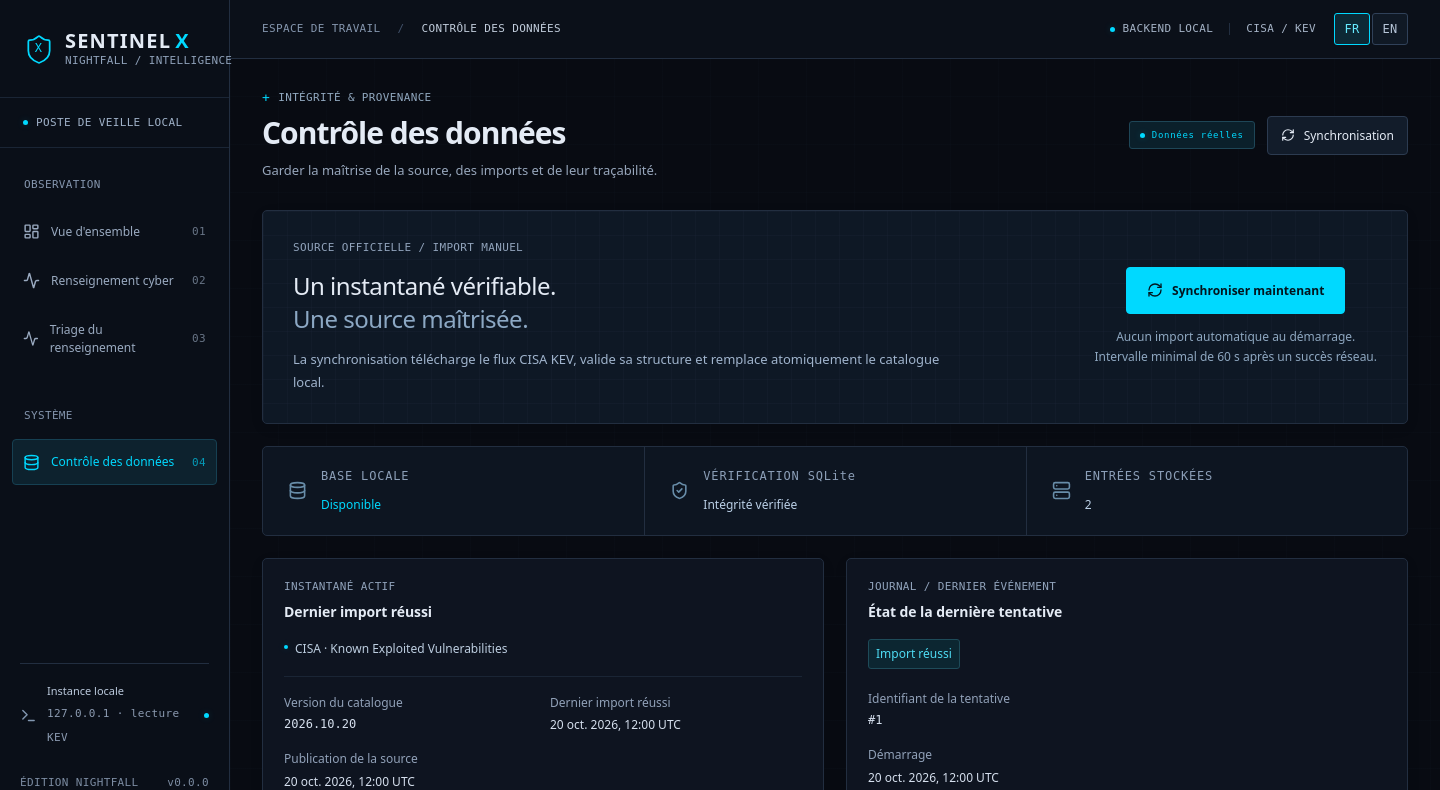
journalise l’échec de synchronisation tout en gardant le dernier succès visible
Click the button "Synchroniser maintenant".
click(1236, 290)  # box x1=1126 y1=267 x2=1345 y2=314
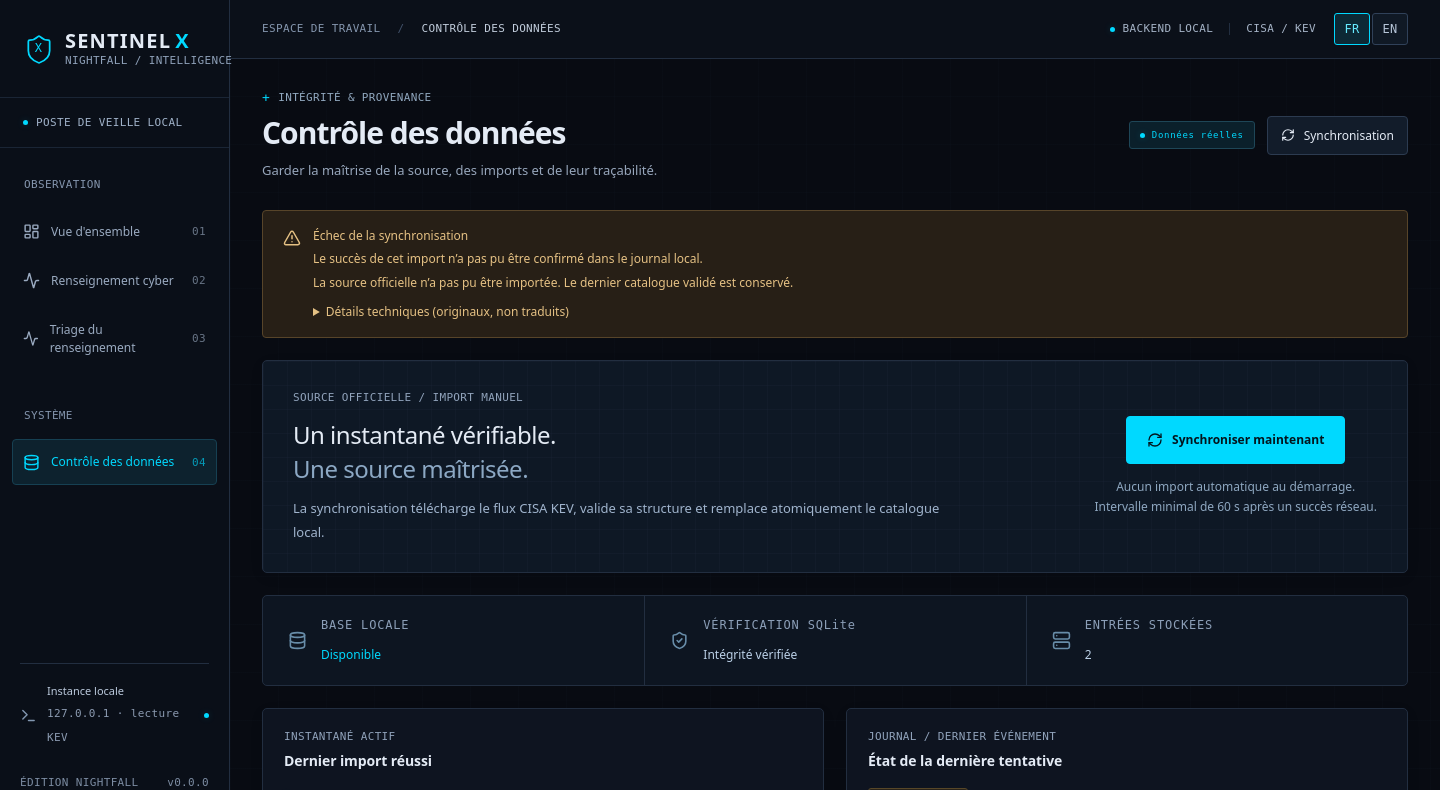
Expected: the button "Synchroniser maintenant" is enabled, x1=1126 y1=416 x2=1345 y2=464
Result: the text "Échec de la synchronisation" is shown at x1=313 y1=227 x2=468 y2=244
